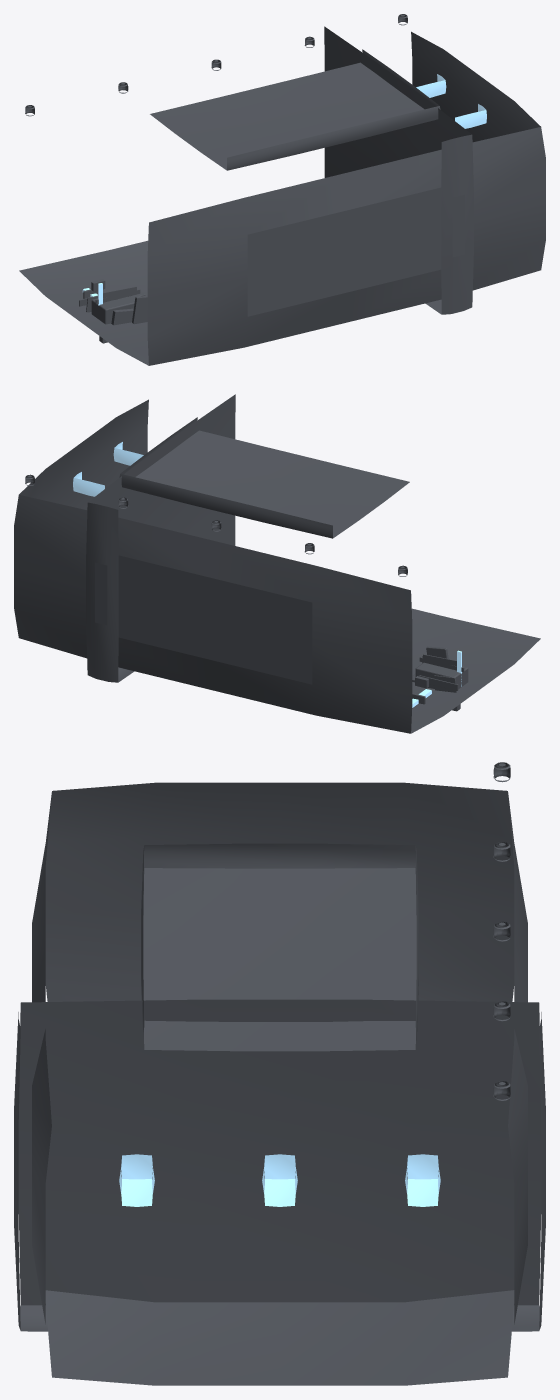
The model's file is pod_fuel_cell.glb.
The picture shows the model from 3 angles, top to bottom: view 1: azimuth 30°, elevation 25°; view 2: azimuth 150°, elevation 25°; view 3: azimuth 270°, elevation 25°; orthographic projection. The views are drawn at different scales.
Parts seen in each view (by area): view 1: Utility_Shell, pod_utility_Material_Mechanical_Merged, Utility_Band, pod_utility_Material_Accent_Merged, DET_fuel_tank; view 2: Utility_Shell, pod_utility_Material_Mechanical_Merged, Utility_Band, pod_utility_Material_Accent_Merged, DET_fuel_tank; view 3: Utility_Band, Utility_Shell, pod_utility_Material_Mechanical_Merged, pod_utility_Material_Accent_Merged.
Part boxes in pixels (x1,y1,x2,y2): Utility_Shell: (19, 31, 545, 365); pod_utility_Material_Mechanical_Merged: (25, 14, 440, 170); Utility_Band: (324, 26, 473, 314); pod_utility_Material_Accent_Merged: (416, 74, 486, 128); DET_fuel_tank: (91, 294, 138, 324); Utility_Shell: (14, 399, 540, 733); pod_utility_Material_Mechanical_Merged: (25, 417, 409, 576); Utility_Band: (86, 394, 235, 682); pod_utility_Material_Accent_Merged: (73, 442, 143, 496); DET_fuel_tank: (415, 662, 468, 689); Utility_Band: (14, 999, 545, 1331); Utility_Shell: (32, 782, 527, 1385); pod_utility_Material_Mechanical_Merged: (141, 762, 510, 1100); pod_utility_Material_Accent_Merged: (119, 1154, 440, 1206).
Bounding box in the file's own units: 4.2 × 1.88 × 2.68.
